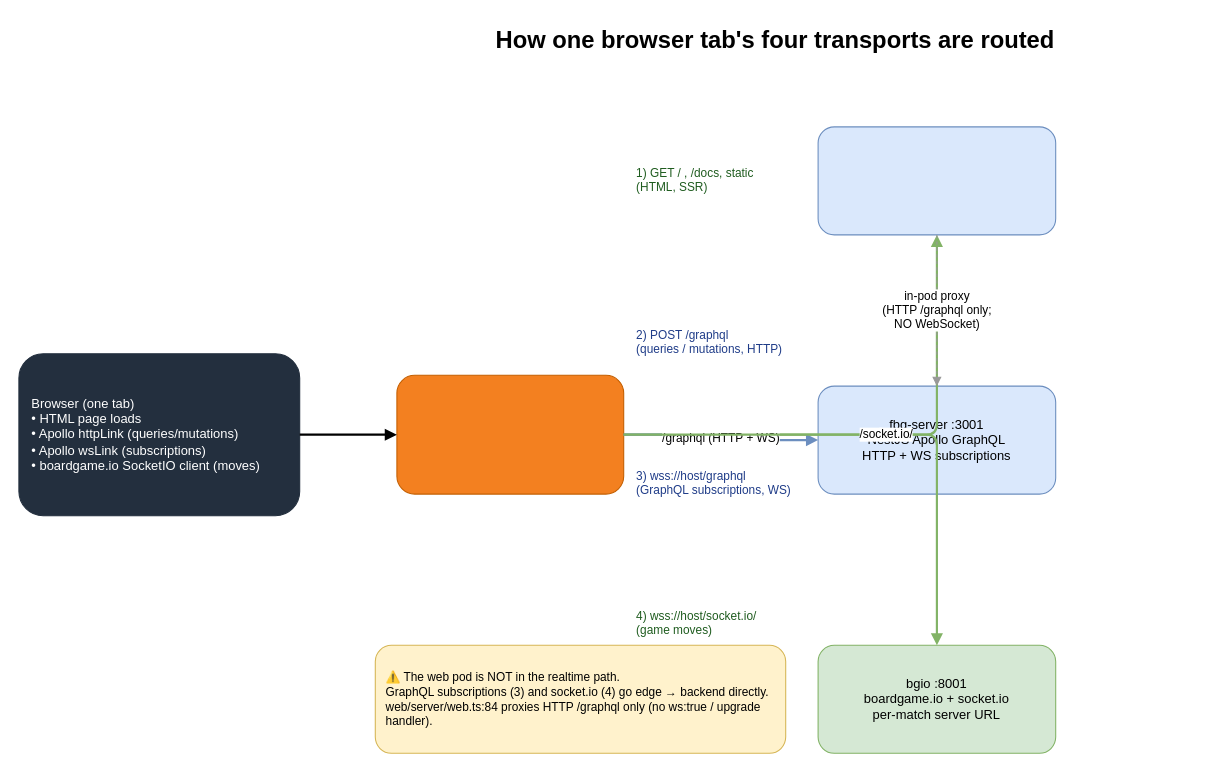
Some shapes in this 1215 by 772 pixel diagram are drawn without their labels. Each missing label, with the centre of its shape:
"Cloudflare → nginx Ingress TLS termination cookie affinity (sticky)" goes at point 510,434.
"web :3000 Next.js + Express SSR, /docs, static" goes at point 936,180.
